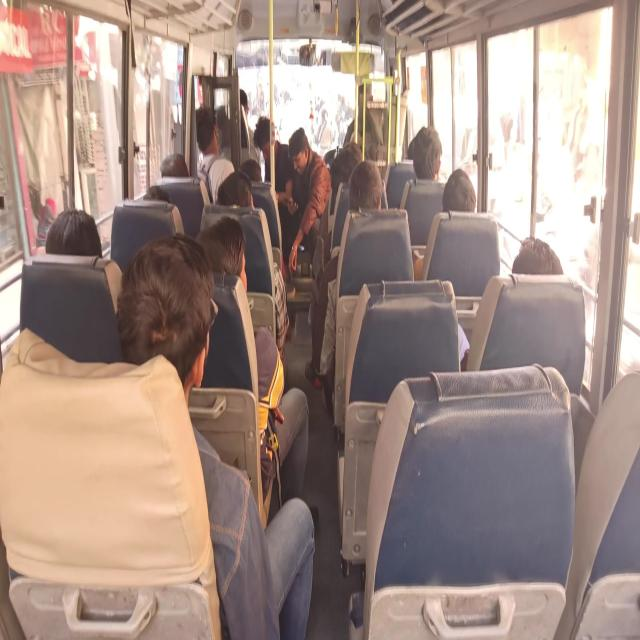person: (115, 228, 222, 403), (195, 208, 255, 302), (39, 200, 110, 269), (511, 227, 570, 287), (350, 155, 387, 225), (439, 162, 481, 223), (326, 131, 365, 196), (411, 114, 443, 186), (189, 100, 220, 170), (249, 109, 279, 168), (136, 182, 178, 222), (286, 120, 314, 180), (216, 170, 256, 212), (156, 148, 190, 182), (355, 71, 379, 113), (239, 154, 268, 180), (238, 84, 250, 124), (406, 130, 416, 162)
